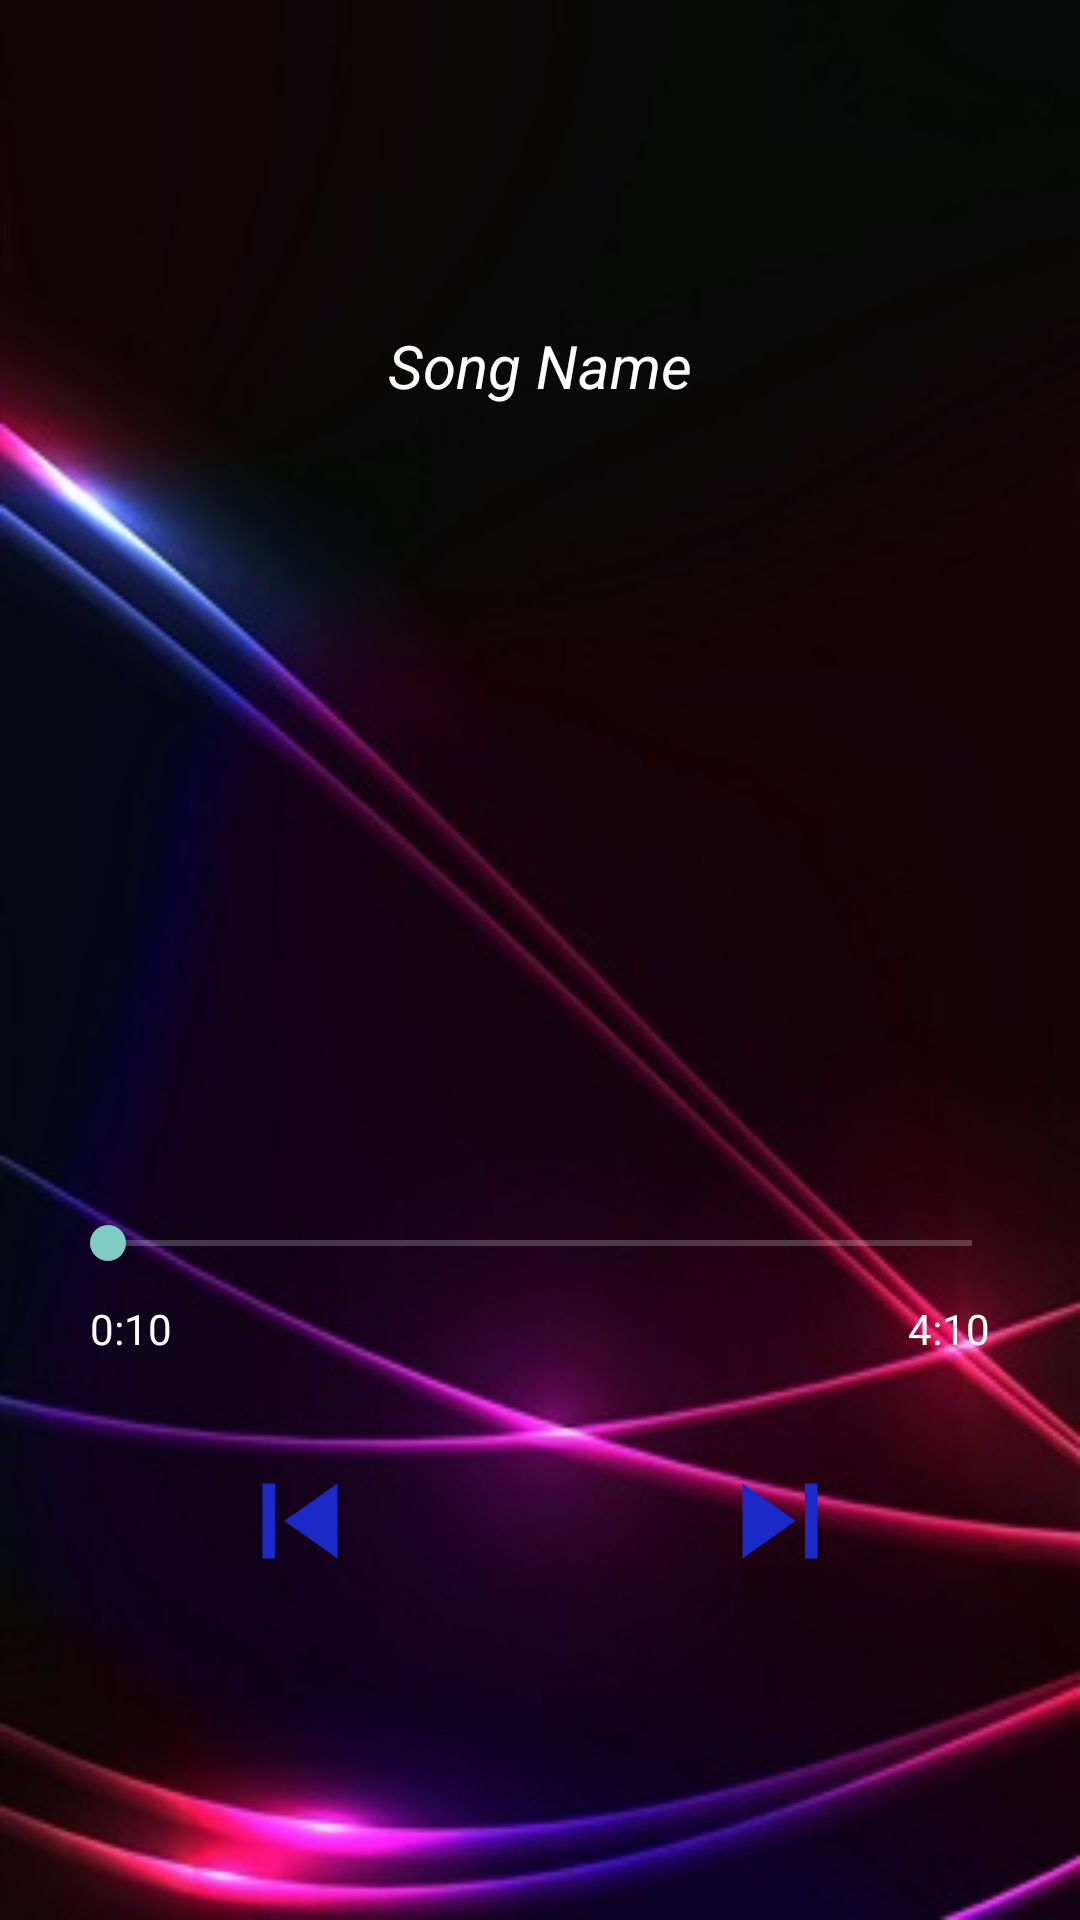

Locate icon controls on the screen. Image size 1080w x 1920h, boxes as rect(x1, y1, x2, y2).
skip next: rect(705, 1460, 855, 1596)
skip previous: rect(262, 1483, 338, 1559)
